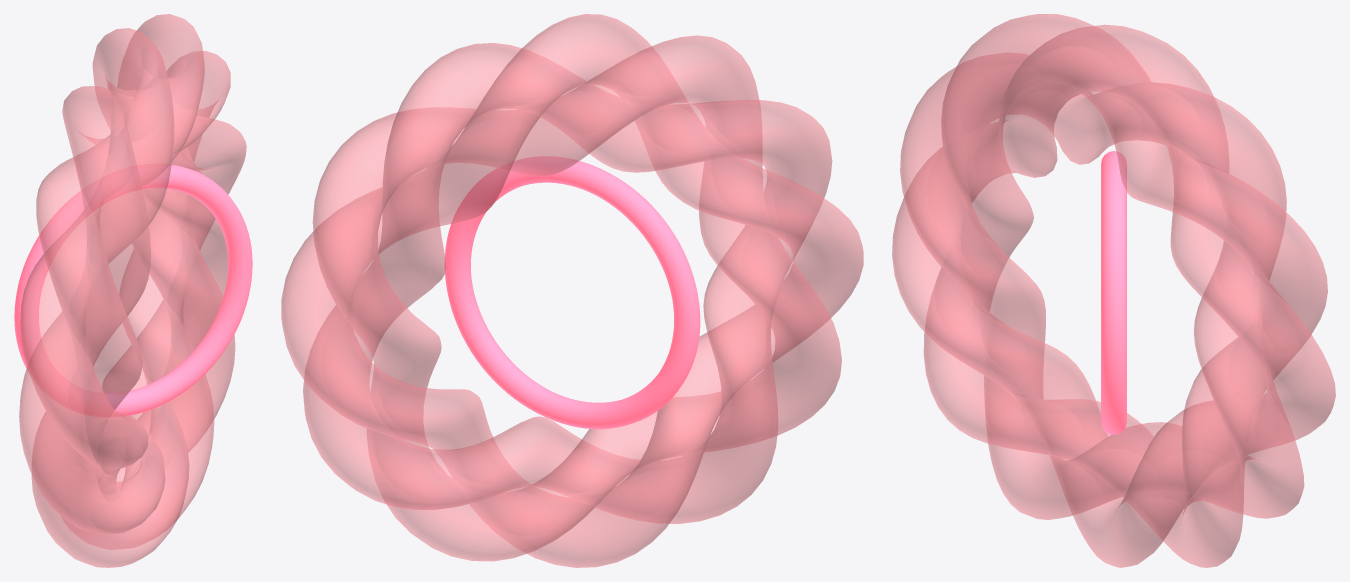
The model's file is web.glb.
3 views of the same model, side by side, from view 1: azimuth 30°, elevation 25°; view 2: azimuth 150°, elevation 25°; view 3: azimuth 270°, elevation 25° (orthographic). The views are drawn at different scales.
Visible parts, largest first — view 1: Root lattice 2, Root lattice 0, Root lattice 1, Root energy; view 2: Root lattice 2, Root lattice 0, Root lattice 1, Root energy; view 3: Root lattice 1, Root lattice 0, Root lattice 2, Root energy.
Boxes of the visible parts, x1,y1,x2,y2 form: Root lattice 2: (31,14,227,567); Root lattice 0: (20,28,246,549); Root lattice 1: (19,51,235,534); Root energy: (14,164,252,416); Root lattice 2: (303,43,832,523); Root lattice 0: (281,14,863,567); Root lattice 1: (312,35,841,561); Root energy: (445,156,700,429); Root lattice 1: (923,14,1327,567); Root lattice 0: (892,24,1335,567); Root lattice 2: (900,52,1304,519); Root energy: (1101,151,1126,434).
Bounding box in the file's own units: 2.06 × 2.72 × 2.06.
